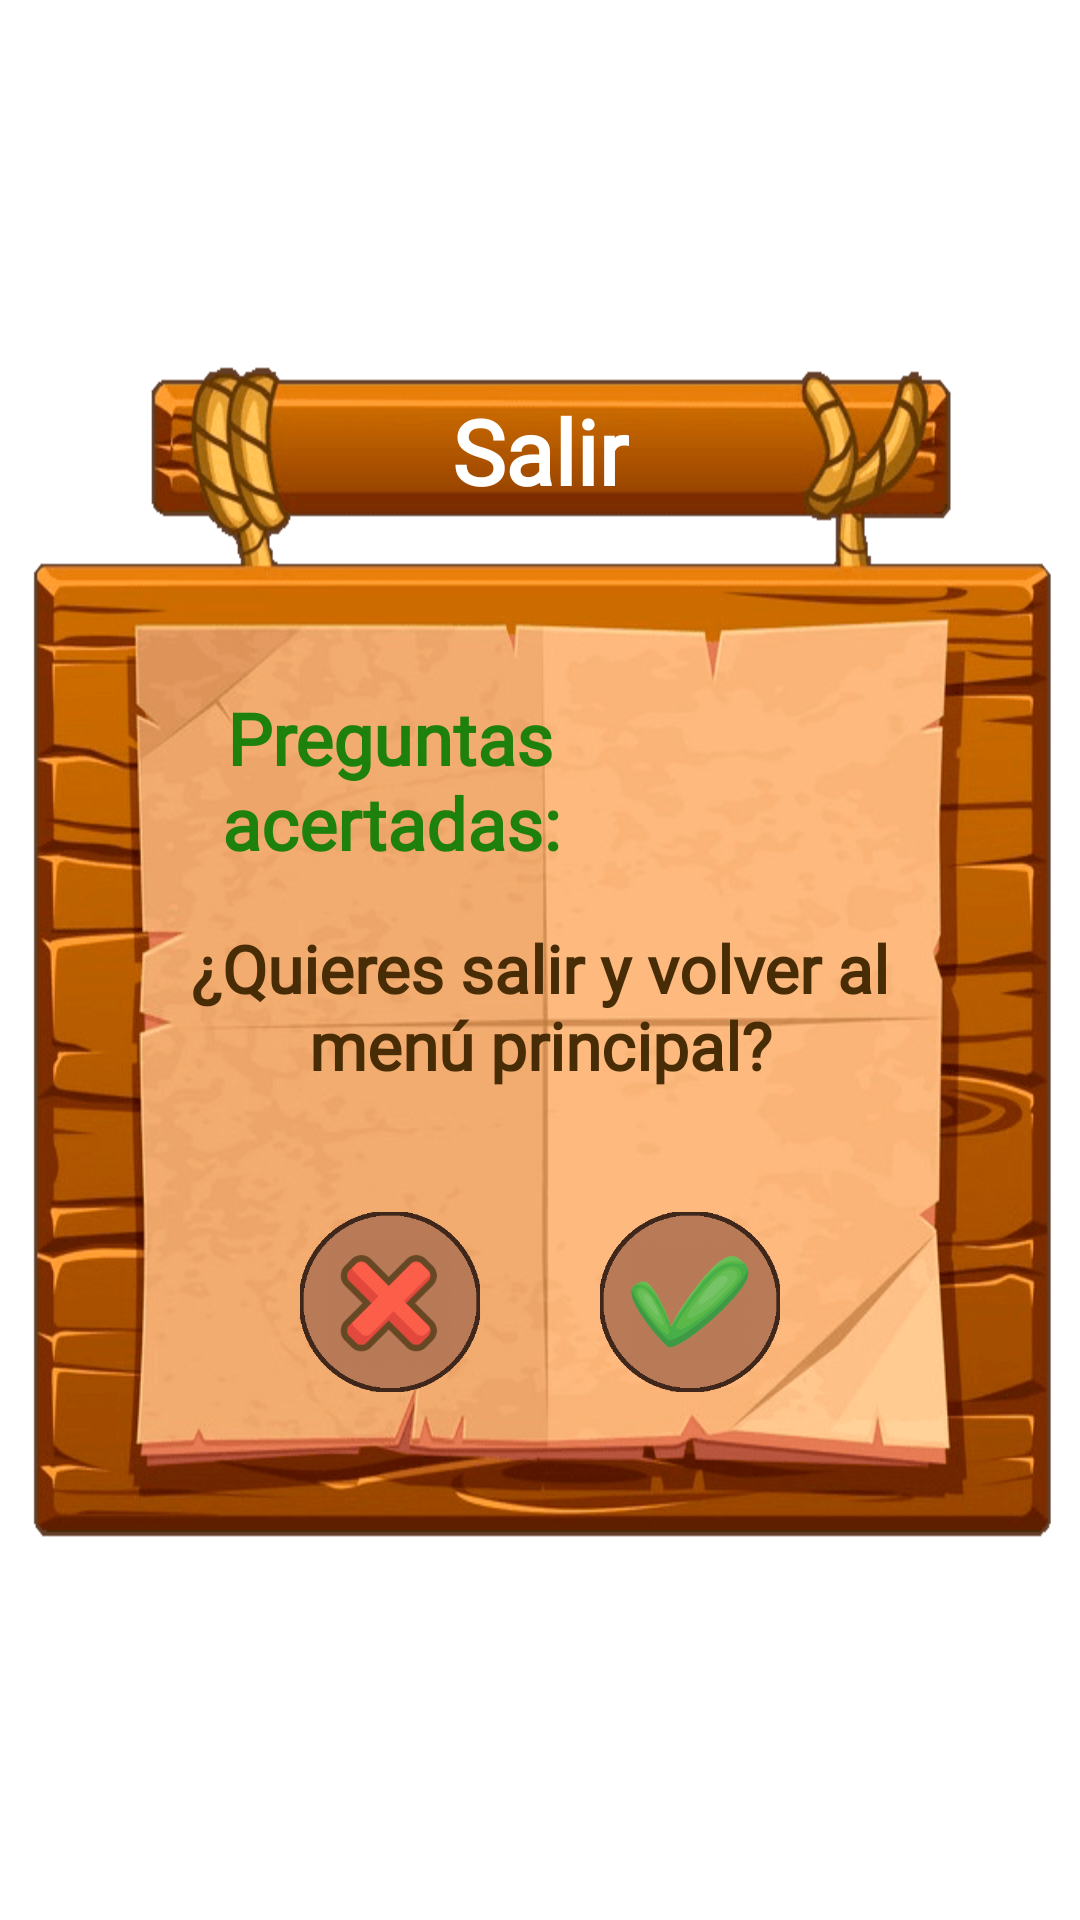

Icons on this 1080px×1920px Android screen, each with its box as bbox=[x1, y1, x2, y2]:
aceptar: bbox=[600, 1212, 780, 1392]
cerrar: bbox=[300, 1212, 480, 1392]
